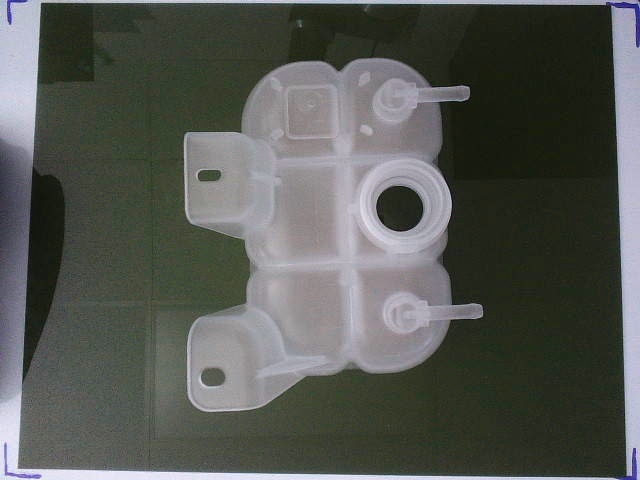reservoir_transparent_Top: (183, 58, 484, 412)
